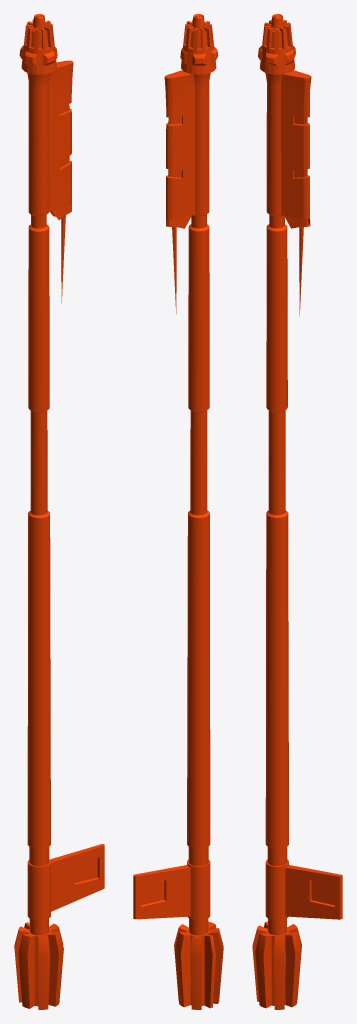
The model's file is StaffForSubstance.obj.
3 renders of one model, left to right at view 1: azimuth 30°, elevation 25°; view 2: azimuth 210°, elevation 25°; view 3: azimuth 330°, elevation 25°, orthographic.
Visible parts, largest first — view 1: StaffBody; view 2: StaffBody; view 3: StaffBody.
Part boxes in pixels (x1,y1,x2,y2): StaffBody: (14,14,104,1009); StaffBody: (133,14,223,1009); StaffBody: (252,14,342,1009).
Bounding box in the file's own units: 41.91 × 455 × 20.88.
